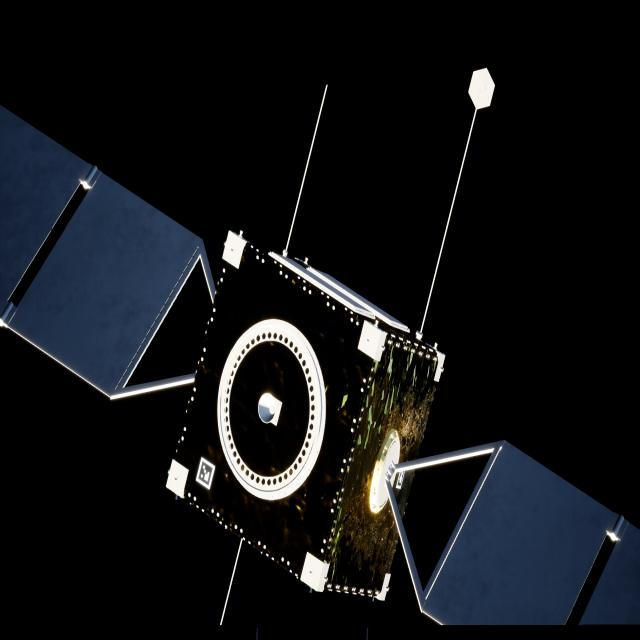satellite: (0, 104, 640, 629)
